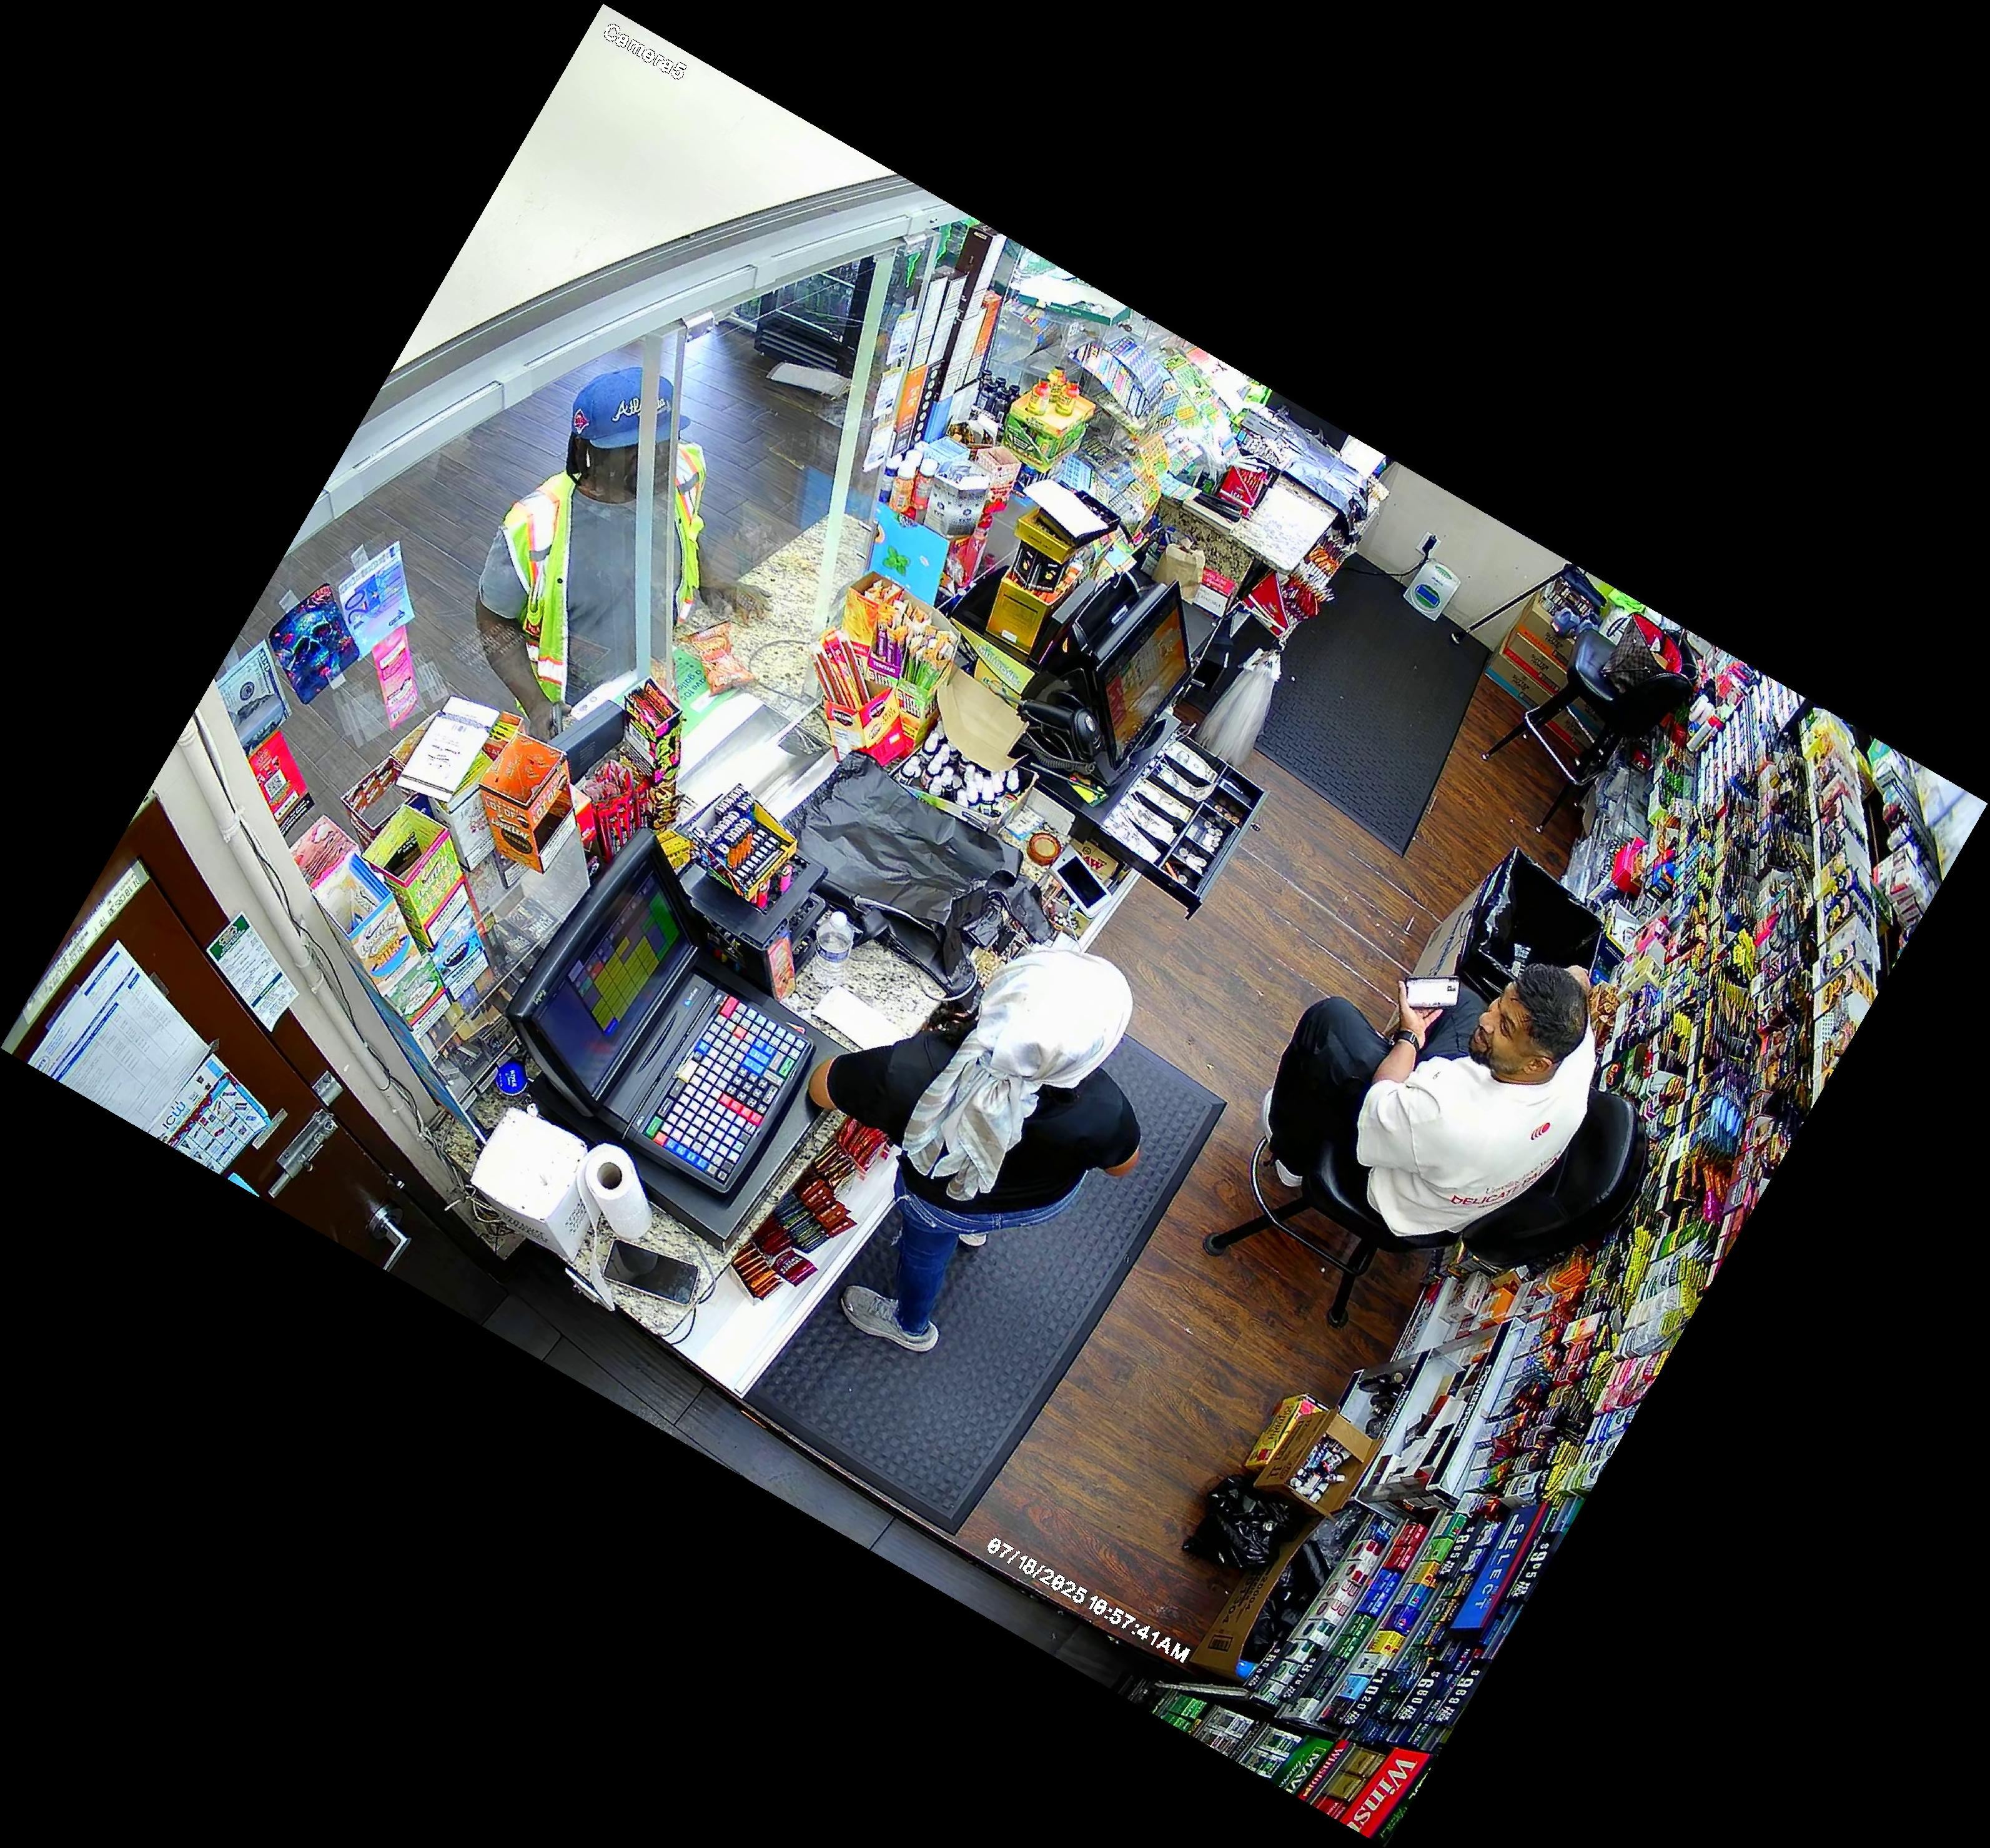phone: (1394, 967, 1464, 1016), (537, 702, 566, 750)
